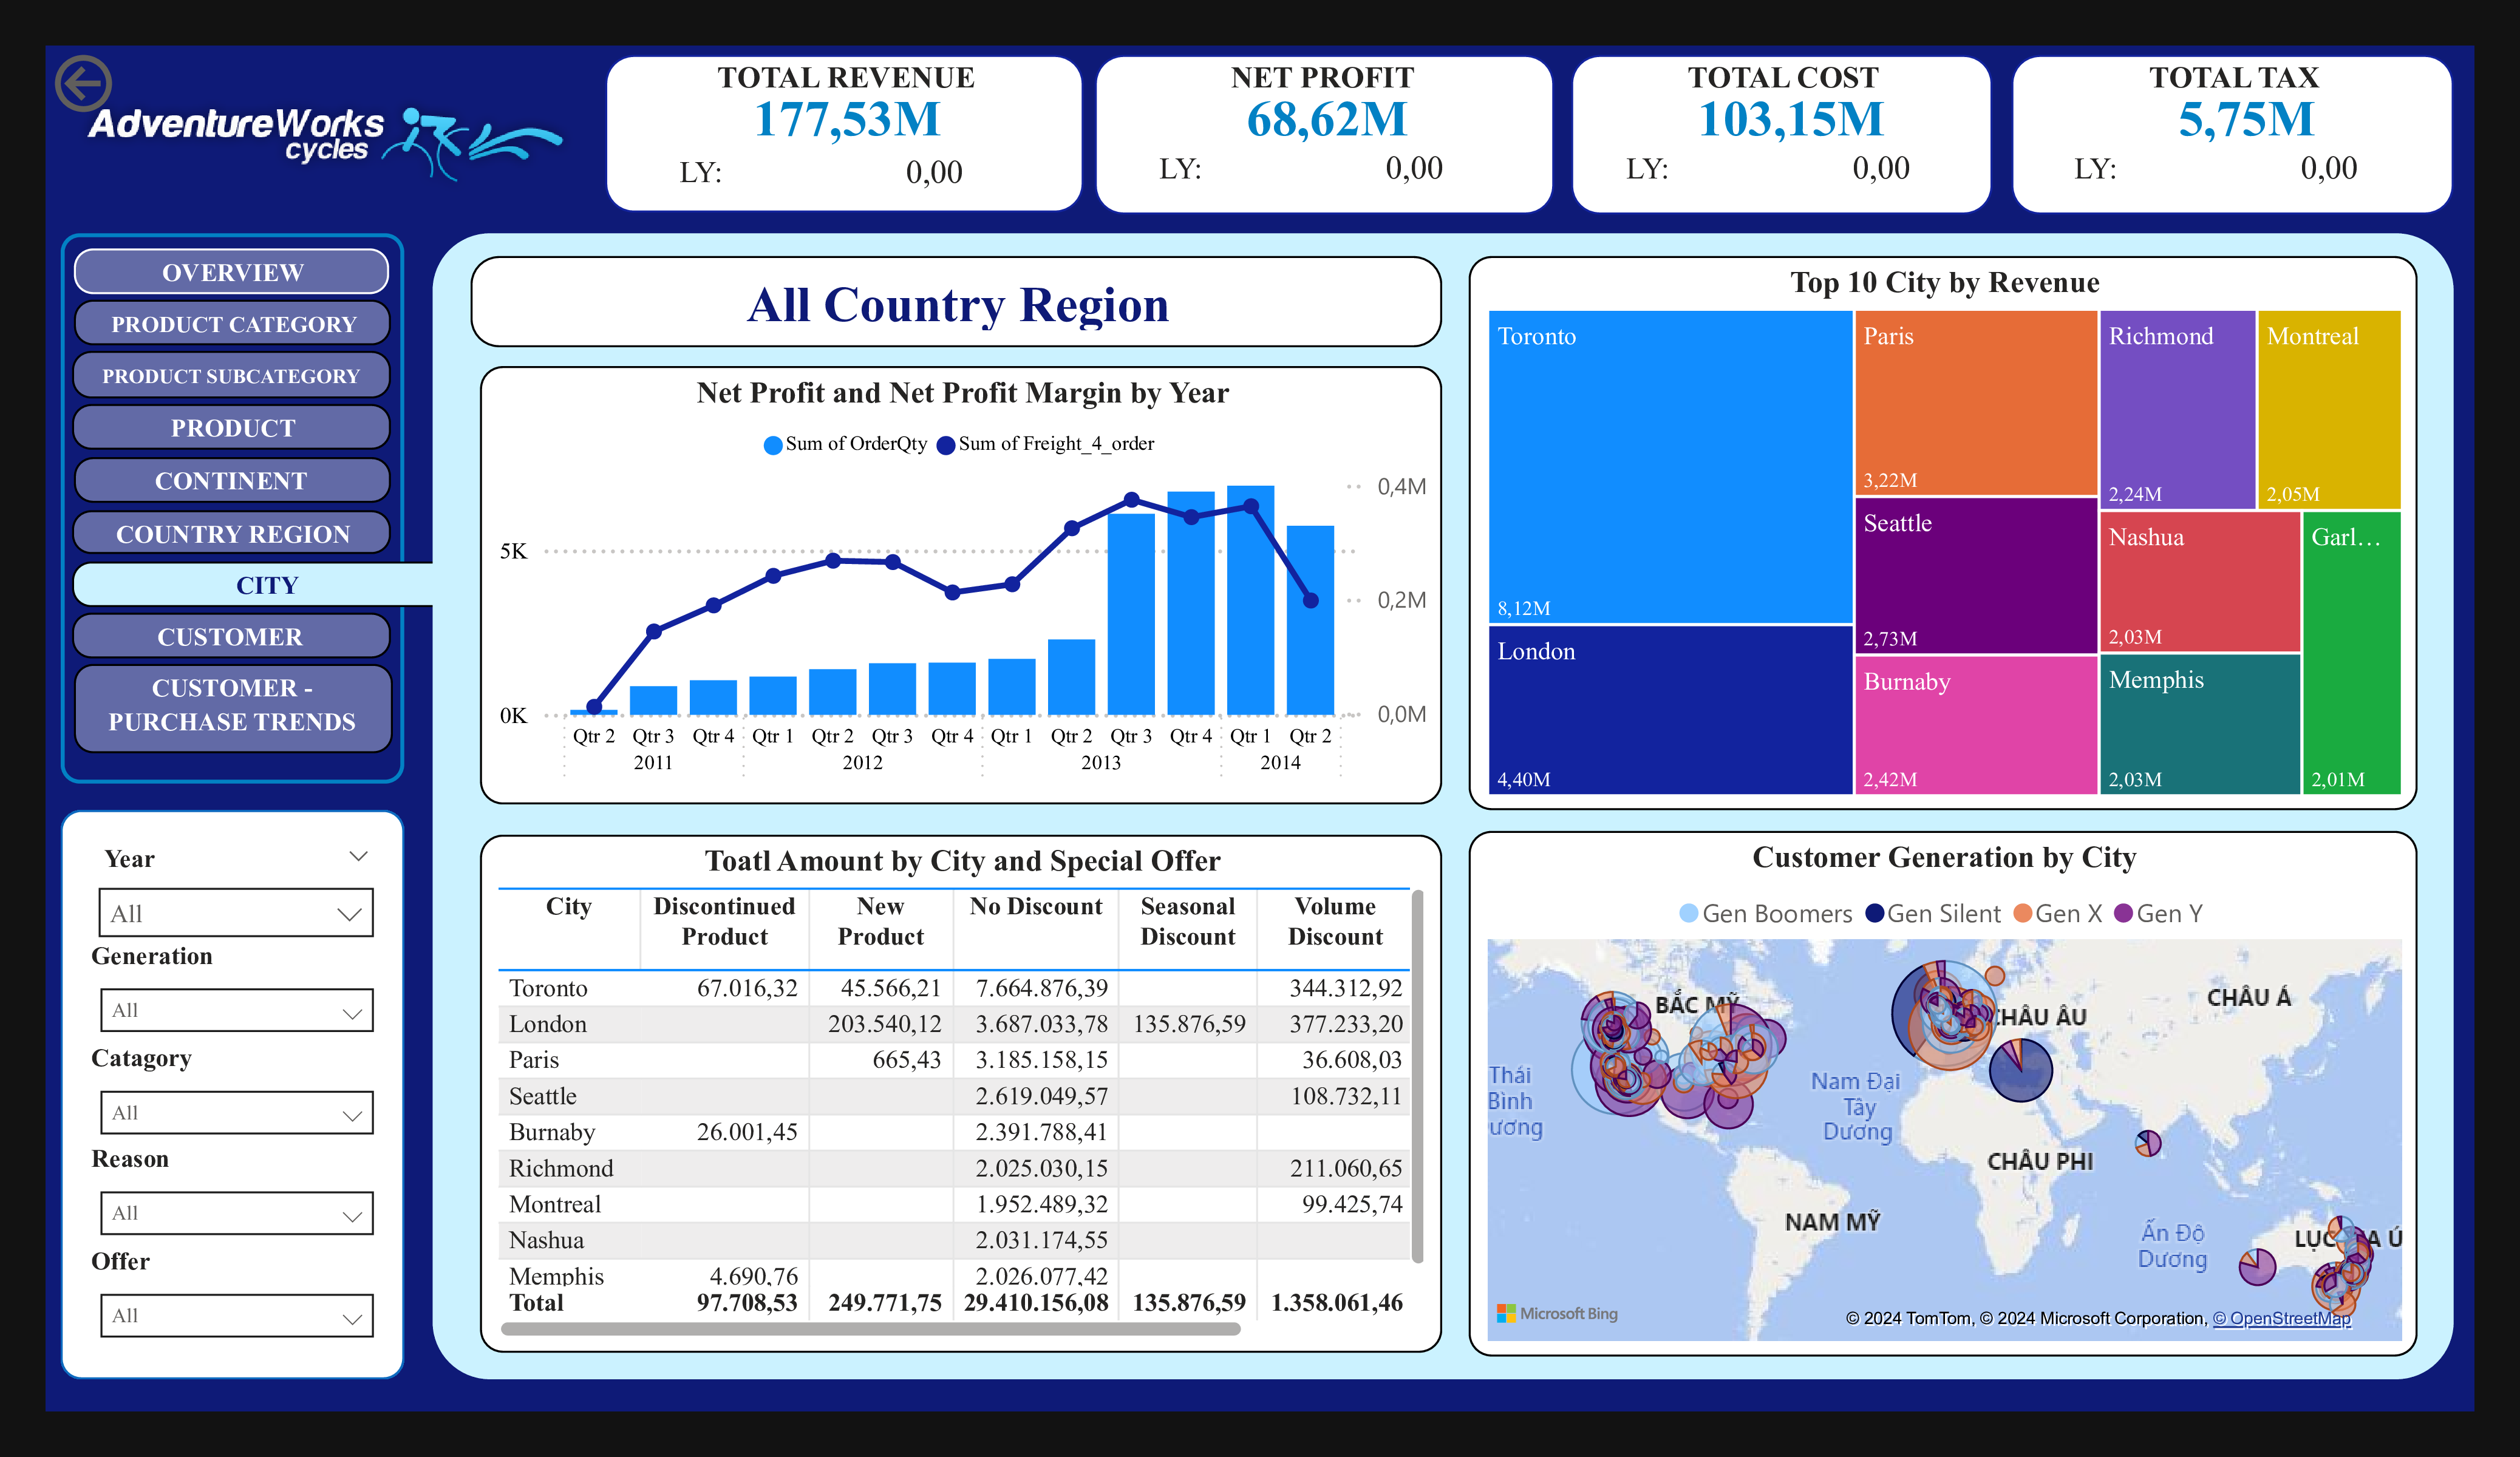

Layout of this report page (visuals, bound fields, positions):
{"tool":"powerbi","page":{"name":"City","canvas":[1280,720],"ordinal":6},"visuals":[{"type":"textbox","box":[295.4,4.6,251.2,83.5],"z":0},{"type":"group","id":"g1","title":"Group 3","box":[828.3,50.9,94.3,29.3],"z":0,"group":"g7"},{"type":"textbox","box":[828.3,50.9,83.6,29.3],"z":0,"group":"g1"},{"type":"group","id":"g2","title":"Group 3","box":[1064.3,50.9,94.3,29.3],"z":0,"group":"g8"},{"type":"textbox","box":[1064.3,50.9,83.6,29.3],"z":0,"group":"g2"},{"type":"group","id":"g3","title":"Group 3","box":[581.9,51,94.3,29.3],"z":0,"group":"g6"},{"type":"textbox","box":[581.9,51,83.6,29.3],"z":0,"group":"g3"},{"type":"group","id":"g4","title":"Group 3","box":[329.1,53.4,94.3,29.3],"z":0,"group":"g5"},{"type":"textbox","box":[329.1,53.4,83.6,29.3],"z":0,"group":"g4"},{"type":"card","fields":{"Values":["Fact_SalesOrderHeader.Total_Revenue"]},"box":[347.7,22.7,147.3,33.5],"z":1000},{"type":"card","fields":{"Values":["Fact_SalesOrderHeader.Prev_Total_Cost"]},"box":[855.1,50.9,67.5,24.3],"z":1000,"group":"g1"},{"type":"card","fields":{"Values":["Fact_SalesOrderHeader.%Change_Cost"]},"box":[922.6,50.9,90.7,29.3],"z":1000,"group":"g7"},{"type":"card","fields":{"Values":["Fact_SalesOrderHeader.Prev_Total_Tax"]},"box":[1091.1,50.9,67.5,24.3],"z":1000,"group":"g2"},{"type":"card","fields":{"Values":["Fact_SalesOrderHeader.%Change_Tax"]},"box":[1158.6,50.9,90.7,29.3],"z":1000,"group":"g8"},{"type":"card","fields":{"Values":["Fact_SalesOrderHeader.Prev_Net_Profit"]},"box":[608.7,51,67.5,24.3],"z":1000,"group":"g3"},{"type":"card","fields":{"Values":["Fact_SalesOrderHeader.%Change_Net_Profit"]},"box":[676.2,51,90.7,29.3],"z":1000,"group":"g6"},{"type":"card","fields":{"Values":["Fact_SalesOrderHeader.Prev_Total_Revenue"]},"box":[355.9,53.4,67.5,24.3],"z":1000,"group":"g4"},{"type":"card","fields":{"Values":["Fact_SalesOrderHeader.%Change_Revenue"]},"box":[423.4,53.4,90.7,29.3],"z":1000,"group":"g5"},{"type":"textbox","box":[553.3,4.8,241.9,83.8],"z":2000},{"type":"textbox","box":[803.8,5,222.5,83.8],"z":3000},{"type":"textbox","box":[1036.2,5,232.5,83.8],"z":4000},{"type":"card","fields":{"Values":["Fact_SalesOrderHeader.Net_Profit"]},"box":[587.1,22.9,174.8,33.3],"z":5000},{"type":"card","fields":{"Values":["Fact_SalesOrderHeader.Total_Cost"]},"box":[839.1,23,160,32.6],"z":6000},{"type":"card","fields":{"Values":["Fact_SalesOrderHeader.Total_Tax"]},"box":[1091.7,23,133.9,32.6],"z":7000},{"type":"group","id":"g5","title":"Group 4","box":[329.1,53.4,184.4,29.1],"z":8000},{"type":"group","id":"g6","title":"Group 4","box":[581.9,51,184.8,29],"z":9000},{"type":"group","id":"g7","title":"Group 4","box":[828.3,50.9,185.2,29.1],"z":10000},{"type":"group","id":"g8","title":"Group 4","box":[1064.3,50.9,184.8,29.1],"z":11000},{"type":"slicer","fields":{"Values":["Datetime.OrderDate.Variation.Date Hierarchy.Year"]},"box":[18.2,416.2,165.2,56.5],"z":11000,"group":"g9"},{"type":"shape","box":[7.5,99,181.5,290],"z":12000},{"type":"slicer","title":"Catagory ","fields":{"Values":["ProductCategory.Name"]},"box":[19,526.6,164.4,52.7],"z":12000,"group":"g9"},{"type":"image","box":[0,22,295,61],"z":13000},{"type":"slicer","title":"Reason ","fields":{"Values":["SalesReason.Name"]},"box":[19,579.3,164.4,54],"z":13000,"group":"g9"},{"type":"textbox","box":[14.7,106.7,166.7,24],"z":14000},{"type":"slicer","title":"Offer ","fields":{"Values":["SpecialOffer.Type"]},"box":[19,633.3,164.4,55.2],"z":14000,"group":"g9"},{"type":"textbox","box":[14.8,134.1,167,24.1],"z":15000},{"type":"slicer","title":"Generation","fields":{"Values":["Sales Customer.Generation"]},"box":[19,472.7,164.4,55.2],"z":15000,"group":"g9"},{"type":"textbox","box":[14.4,161.5,167.4,24.1],"z":16000},{"type":"textbox","box":[14.4,188.9,167.4,24.4],"z":17000},{"type":"textbox","box":[14.7,216.8,167.4,23.7],"z":18000},{"type":"textbox","box":[14.2,244.7,167.4,23.7],"z":19000},{"type":"textbox","box":[14,272,207.3,24],"z":20000},{"type":"textbox","box":[14.2,299.5,167.4,23.7],"z":21000},{"type":"shape","box":[8.2,402.5,181.2,300],"z":22000},{"type":"group","id":"g9","title":"Group 1","box":[18.2,416.2,165,272.5],"z":23000},{"type":"shape","box":[203.8,98.8,1065,603.8],"z":24000},{"type":"map","title":"Customer Generation by Net Profit and  City","fields":{"Size":["Fact_SalesOrderHeader.Net_Profit"],"Series":["Sales Customer.Generation"],"Category":["City.City"]},"box":[748.8,411.2,500,277.5],"z":25000},{"type":"treemap","title":"Top 10 City by Revenue ","fields":{"Values":["Fact_SalesOrderHeader.Total_Revenue"],"Group":["City.City"]},"box":[750,111.4,500,291.4],"z":26000},{"type":"pivotTable","title":"Toatl Amount by City and  Special Offer","fields":{"Rows":["City.City"],"Values":["Sum(Fact_SalesOrderHeader.Total_Amount_4_Order)"],"Columns":["SpecialOffer.Type"]},"box":[228.6,415.7,507.1,272.9],"z":27000},{"type":"textbox","box":[15,326.1,167.8,47.2],"z":28000},{"type":"card","fields":{"Values":["CountryRegion.Selected_Region"]},"box":[224.3,111.4,511.4,47.1],"z":29000},{"type":"actionButton","box":[0,0,100,40],"z":30000},{"type":"lineClusteredColumnComboChart","title":"Net Profit and Net Profit Margin by Year","fields":{"Category":["Datetime.OrderDate.Variation.Date Hierarchy.Year","Datetime.OrderDate.Variation.Date Hierarchy.Quarter"],"Y2":["Sum(Fact_SalesOrderHeader.Freight_4_order)"],"Y":["Sum(Fact_SalesOrderDetail.OrderQty)"]},"box":[228.6,168.6,507.1,231.4],"z":31000}]}

Visuals, with their boxes on the page's 1280x720 design canvas (x1, y1, x2, y2). These are canvas units, not pixel positions in the 2520x1457 screenshot, which may show the page scaled, cropped or inside an application window:
textbox: <bbox>295, 5, 547, 88</bbox>
"Group 3" group: <bbox>828, 51, 923, 80</bbox>
textbox: <bbox>828, 51, 912, 80</bbox>
"Group 3" group: <bbox>1064, 51, 1159, 80</bbox>
textbox: <bbox>1064, 51, 1148, 80</bbox>
"Group 3" group: <bbox>582, 51, 676, 80</bbox>
textbox: <bbox>582, 51, 666, 80</bbox>
"Group 3" group: <bbox>329, 53, 423, 83</bbox>
textbox: <bbox>329, 53, 413, 83</bbox>
card - Fact_SalesOrderHeader.Total_Revenue: <bbox>348, 23, 495, 56</bbox>
card - Fact_SalesOrderHeader.Prev_Total_Cost: <bbox>855, 51, 923, 75</bbox>
card - Fact_SalesOrderHeader.%Change_Cost: <bbox>923, 51, 1013, 80</bbox>
card - Fact_SalesOrderHeader.Prev_Total_Tax: <bbox>1091, 51, 1159, 75</bbox>
card - Fact_SalesOrderHeader.%Change_Tax: <bbox>1159, 51, 1249, 80</bbox>
card - Fact_SalesOrderHeader.Prev_Net_Profit: <bbox>609, 51, 676, 75</bbox>
card - Fact_SalesOrderHeader.%Change_Net_Profit: <bbox>676, 51, 767, 80</bbox>
card - Fact_SalesOrderHeader.Prev_Total_Revenue: <bbox>356, 53, 423, 78</bbox>
card - Fact_SalesOrderHeader.%Change_Revenue: <bbox>423, 53, 514, 83</bbox>
textbox: <bbox>553, 5, 795, 89</bbox>
textbox: <bbox>804, 5, 1026, 89</bbox>
textbox: <bbox>1036, 5, 1269, 89</bbox>
card - Fact_SalesOrderHeader.Net_Profit: <bbox>587, 23, 762, 56</bbox>
card - Fact_SalesOrderHeader.Total_Cost: <bbox>839, 23, 999, 56</bbox>
card - Fact_SalesOrderHeader.Total_Tax: <bbox>1092, 23, 1226, 56</bbox>
"Group 4" group: <bbox>329, 53, 514, 82</bbox>
"Group 4" group: <bbox>582, 51, 767, 80</bbox>
"Group 4" group: <bbox>828, 51, 1014, 80</bbox>
"Group 4" group: <bbox>1064, 51, 1249, 80</bbox>
slicer - Datetime.OrderDate.Variation.Date Hierarchy.Year: <bbox>18, 416, 183, 473</bbox>
shape: <bbox>8, 99, 189, 389</bbox>
"Catagory " slicer: <bbox>19, 527, 183, 579</bbox>
image: <bbox>0, 22, 295, 83</bbox>
"Reason " slicer: <bbox>19, 579, 183, 633</bbox>
textbox: <bbox>15, 107, 181, 131</bbox>
"Offer " slicer: <bbox>19, 633, 183, 688</bbox>
textbox: <bbox>15, 134, 182, 158</bbox>
"Generation" slicer: <bbox>19, 473, 183, 528</bbox>
textbox: <bbox>14, 162, 182, 186</bbox>
textbox: <bbox>14, 189, 182, 213</bbox>
textbox: <bbox>15, 217, 182, 240</bbox>
textbox: <bbox>14, 245, 182, 268</bbox>
textbox: <bbox>14, 272, 221, 296</bbox>
textbox: <bbox>14, 300, 182, 323</bbox>
shape: <bbox>8, 402, 189, 702</bbox>
"Group 1" group: <bbox>18, 416, 183, 689</bbox>
shape: <bbox>204, 99, 1269, 703</bbox>
"Customer Generation by Net Profit and  City" map: <bbox>749, 411, 1249, 689</bbox>
"Top 10 City by Revenue " treemap: <bbox>750, 111, 1250, 403</bbox>
"Toatl Amount by City and  Special Offer" pivotTable: <bbox>229, 416, 736, 689</bbox>
textbox: <bbox>15, 326, 183, 373</bbox>
card - CountryRegion.Selected_Region: <bbox>224, 111, 736, 158</bbox>
actionButton: <bbox>0, 0, 100, 40</bbox>
"Net Profit and Net Profit Margin by Year" lineClusteredColumnComboChart: <bbox>229, 169, 736, 400</bbox>
